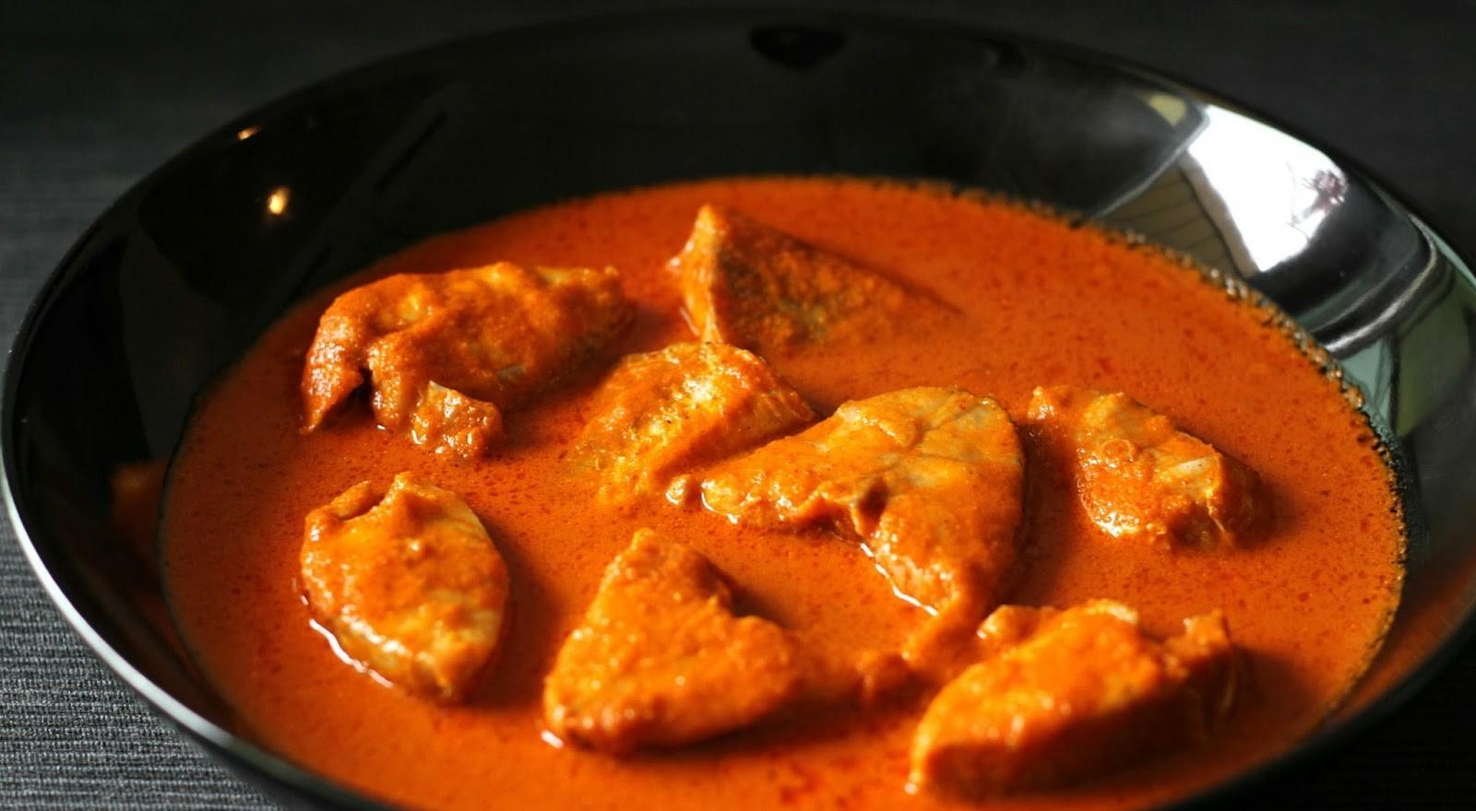FishCurry: (164, 175, 1407, 811)
